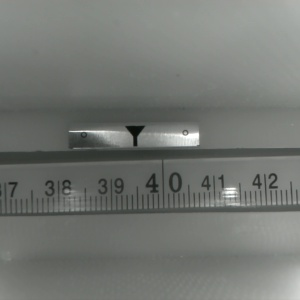0: (168, 172, 182, 192)
1: (217, 175, 224, 191)
2: (267, 173, 277, 188)
3: (44, 180, 55, 196), (97, 178, 107, 194)
4: (145, 173, 159, 193), (251, 173, 262, 189), (200, 176, 211, 191)
7: (7, 181, 17, 197)
8: (61, 179, 72, 195)
9: (113, 178, 124, 194)
finger: (122, 125, 145, 147)
